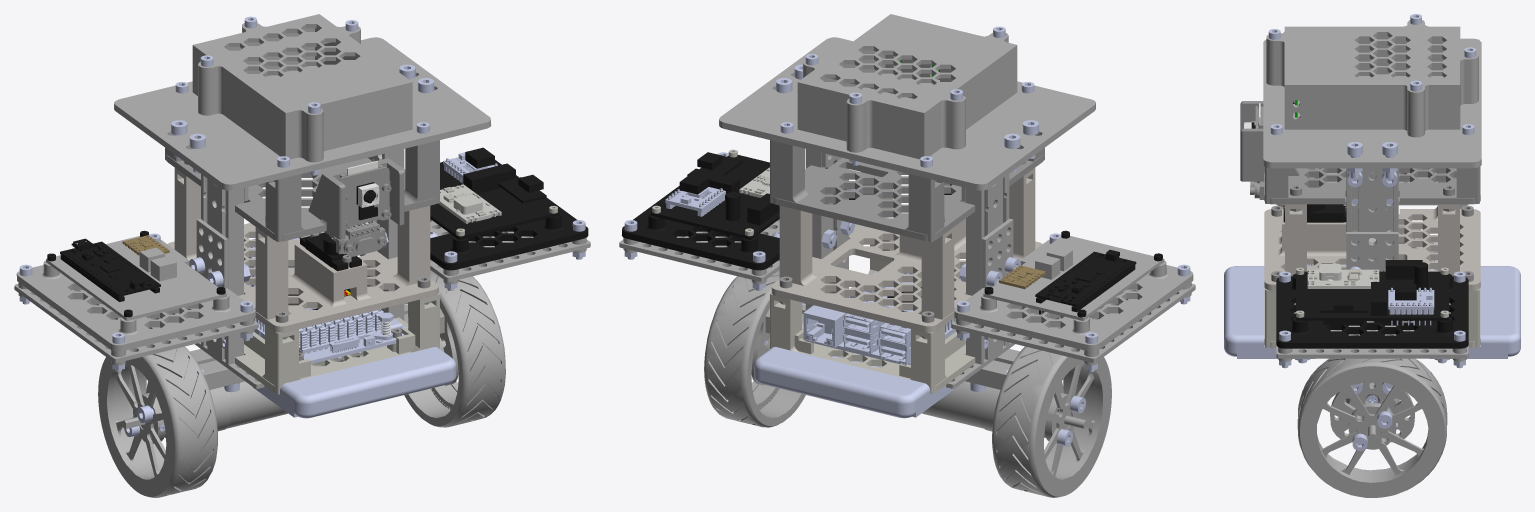
Rendered from two-wheeler.glb.
3 renders of one model, left to right at view 1: azimuth 30°, elevation 25°; view 2: azimuth 150°, elevation 25°; view 3: azimuth 270°, elevation 25°, orthographic. The views are drawn at different scales.
Parts seen in each view (by area): view 1: robot; view 2: robot; view 3: robot.
Part boxes in pixels (box(x1,y1,x2,y2)): robot: box(14, 14, 590, 497); robot: box(619, 14, 1195, 497); robot: box(1224, 14, 1520, 497).
Bounding box in the file's own units: 0.238 × 0.1888 × 0.136.
